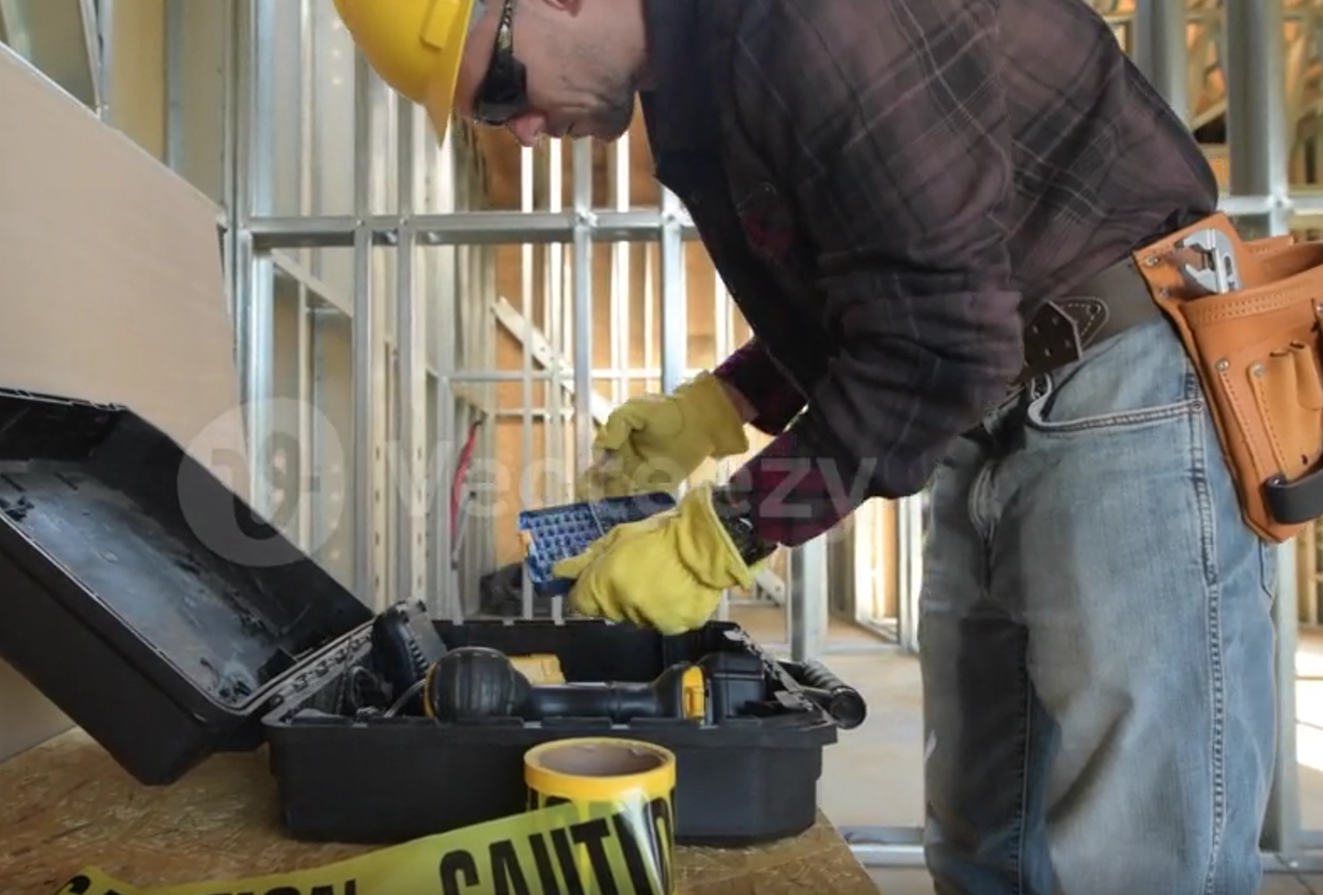safety_helmet: (331, 0, 478, 148)
